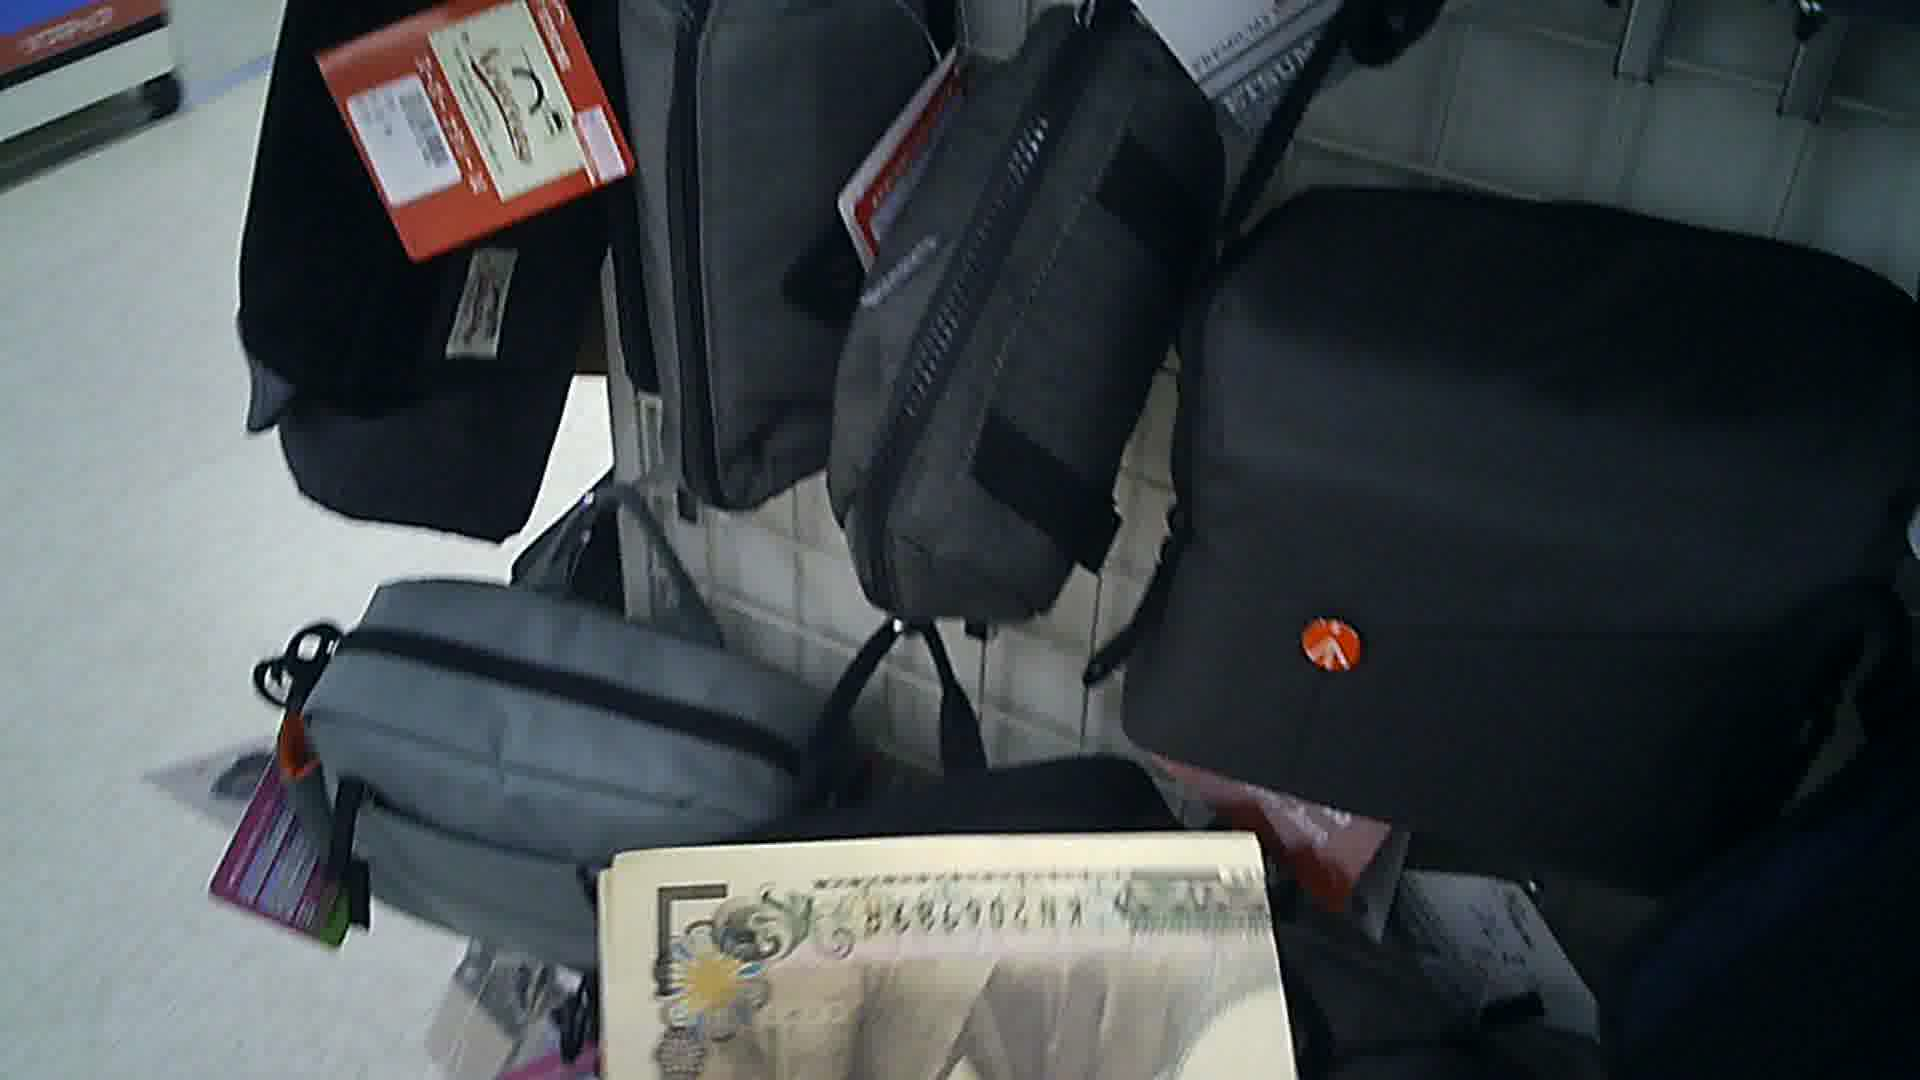10,000 Yen: (568, 831, 1344, 1077)
